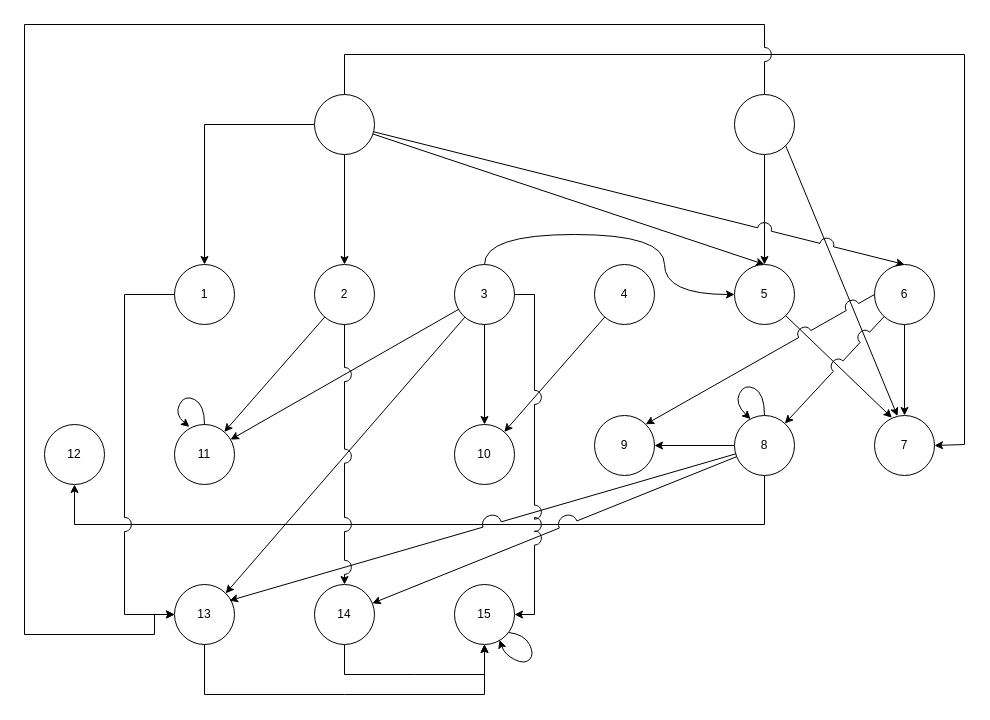
This 990x720 diagram has some shape labels left out. The shapes that lost their labels are listed below. From the top down, each one's centre as x and y in pixels, then its label:
At [344,124]: "pattern".
At [764,124]: "text".
